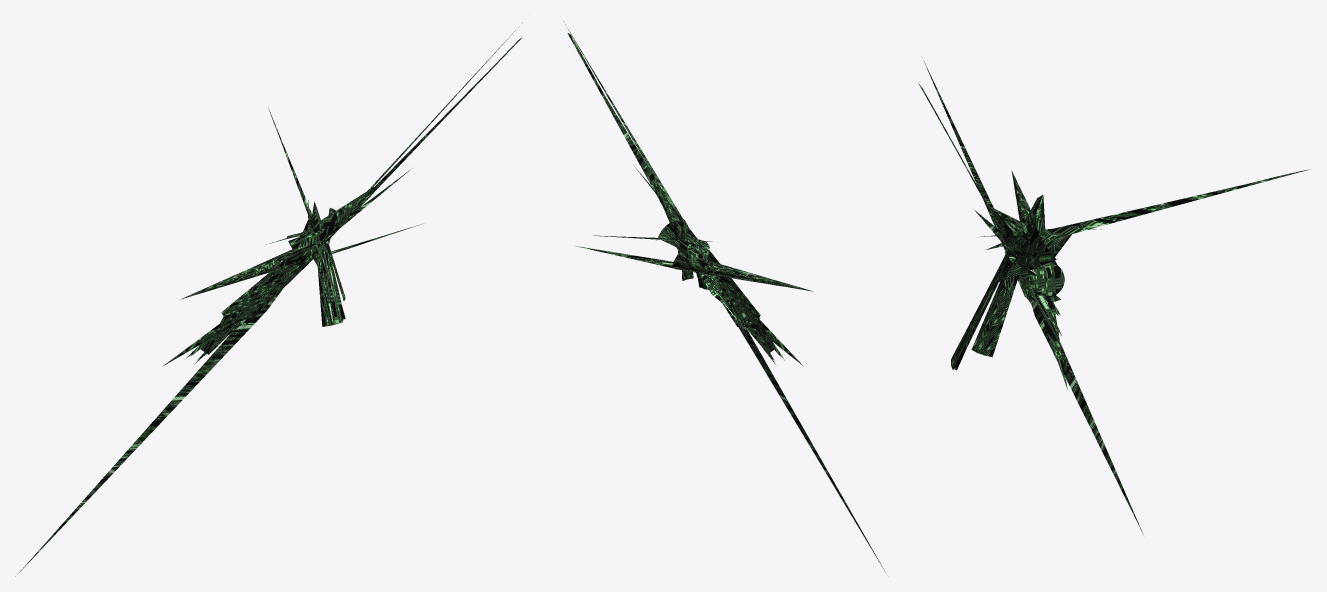
The model's file is flor18.gltf.
3 renders of one model, left to right at view 1: azimuth 30°, elevation 25°; view 2: azimuth 150°, elevation 25°; view 3: azimuth 270°, elevation 25°, orthographic. The views are drawn at different scales.
Parts seen in each view (by area): view 1: Cone.004; view 2: Cone.004; view 3: Cone.004.
Part boxes in pixels (bbox=[...]): Cone.004: bbox=[15, 19, 525, 576]; Cone.004: bbox=[563, 21, 885, 572]; Cone.004: bbox=[918, 57, 1309, 534].
Size of the model in its own units: 40.55 by 43.12 by 18.
1 material, 1 textured.
